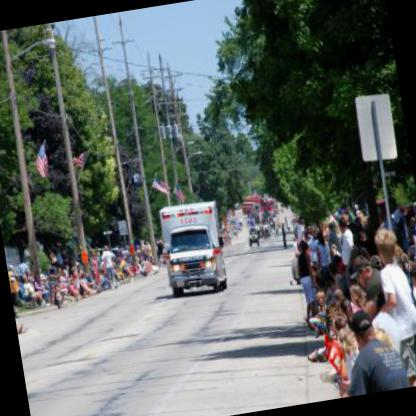truck: (152, 202, 234, 297)
